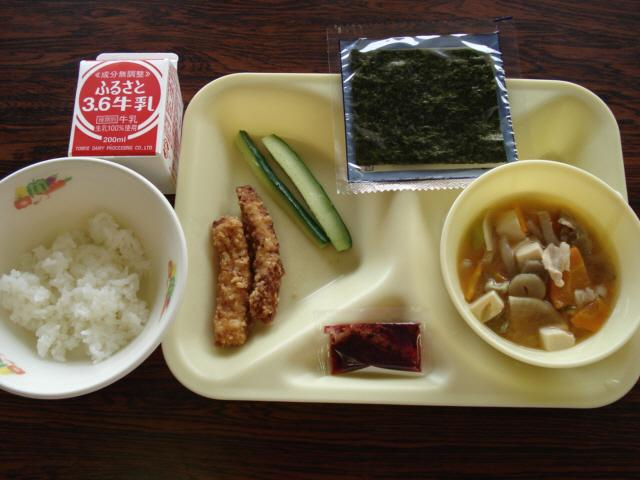plate: (0, 158, 187, 397)
rice: (0, 214, 149, 363)
